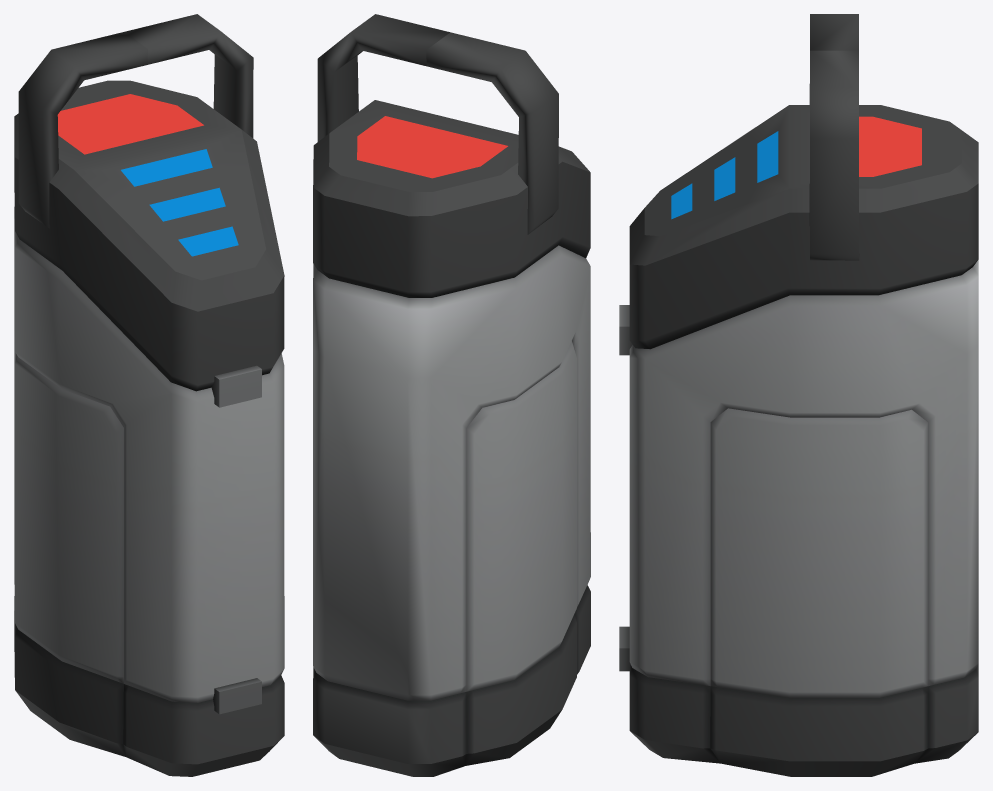
Rendered from Barrel_014.glb.
The picture shows the model from 3 angles, left to right: view 1: azimuth 30°, elevation 25°; view 2: azimuth 150°, elevation 25°; view 3: azimuth 270°, elevation 25°; orthographic projection. The views are drawn at different scales.
Visible parts, largest first — view 1: Barrel_014; view 2: Barrel_014; view 3: Barrel_014.
Boxes of the visible parts, x1=… form: Barrel_014: x1=14, y1=14, x2=284, y2=776; Barrel_014: x1=313, y1=14, x2=590, y2=776; Barrel_014: x1=619, y1=14, x2=978, y2=776.
Bounding box in the file's own units: 0.4309 × 1.29 × 0.6173.
Materials: 2 (2 with a texture image).
